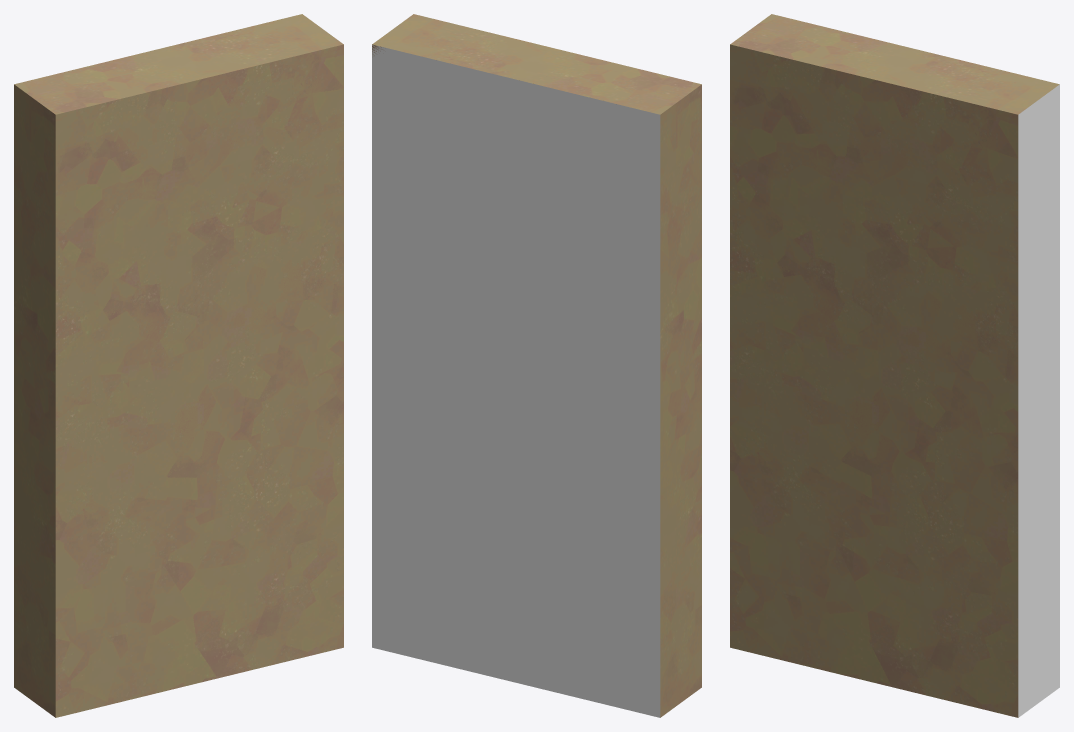
The model's file is Structure_NOM_Wall_Half.fbx.
3 renders of one model, left to right at view 1: azimuth 30°, elevation 25°; view 2: azimuth 150°, elevation 25°; view 3: azimuth 330°, elevation 25°, orthographic.
Visible parts, largest first — view 1: Wall_Half; view 2: Wall_Half_COL, Wall_Half; view 3: Wall_Half, Wall_Half_COL.
Boxes of the visible parts, x1=… form: Wall_Half: x1=14, y1=14, x2=343, y2=717; Wall_Half_COL: x1=372, y1=45, x2=660, y2=717; Wall_Half: x1=372, y1=14, x2=701, y2=717; Wall_Half: x1=730, y1=14, x2=1059, y2=717; Wall_Half_COL: x1=1018, y1=84, x2=1059, y2=717.
Bounding box in the file's own units: 200 × 400 × 50.
